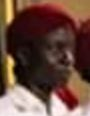without_facemask: (47, 55, 81, 86)
